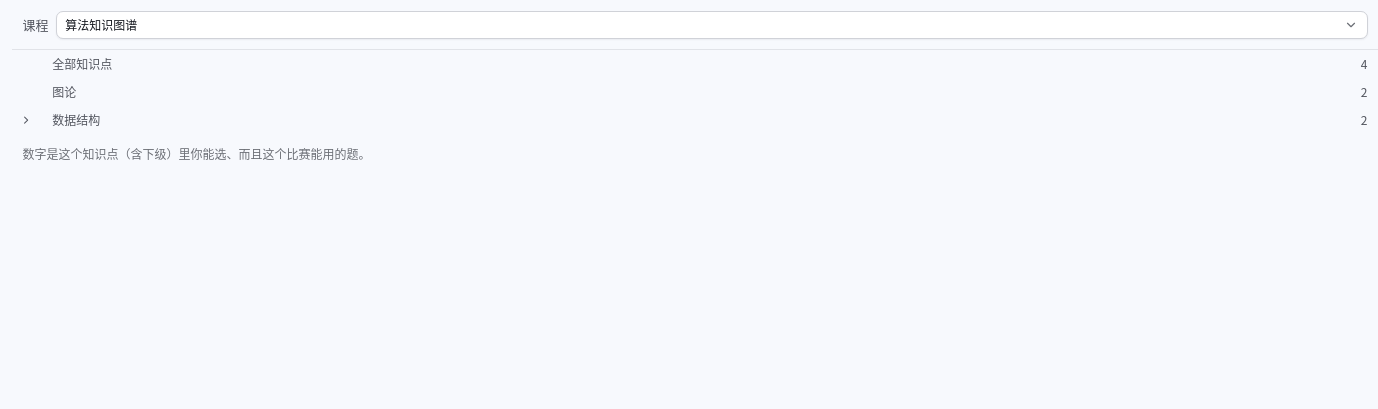
Test: compose bank pane › loads the chosen node and returns to the tree
What coordinates should you click on to do the following:
click the button "图论"
I would click on:
 (64, 92)
Its box is x1=44 y1=78 x2=1357 y2=106.
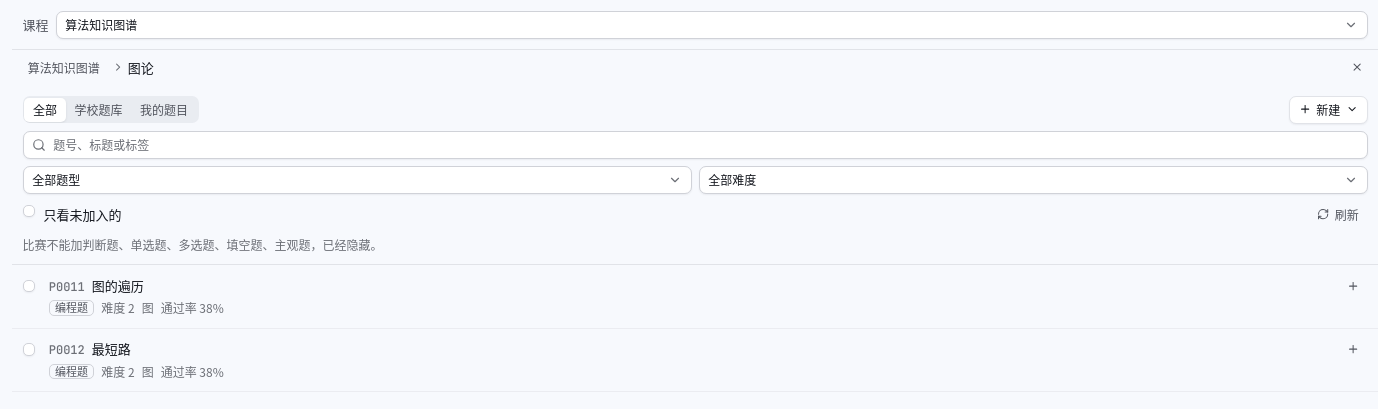
Result: the button named "回到知识点树" is shown
Result: the button "算法知识图谱" is shown at x1=19 y1=54 x2=108 y2=82
Result: the text "图的遍历" is shown at x1=92 y1=276 x2=144 y2=295
What coordinates should you click on to do the following:
click the button named "回到知识点树"
I would click on:
 (1357, 68)
Its box is x1=1343 y1=54 x2=1371 y2=82.
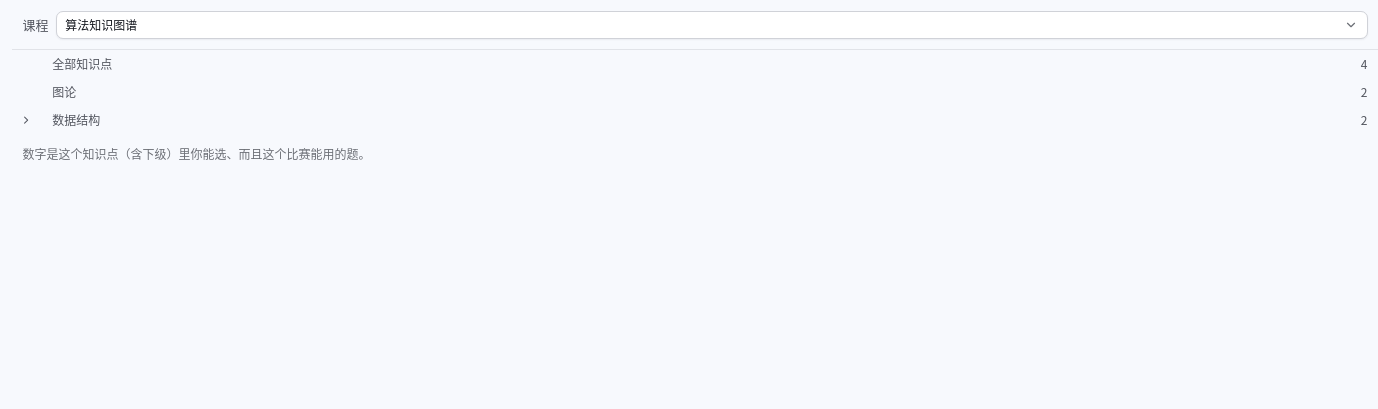
Result: the button "全部知识点" is shown at x1=44 y1=50 x2=1357 y2=78
Result: the button "回到知识点树" is gone
Result: the text "只看未加入的" is gone
